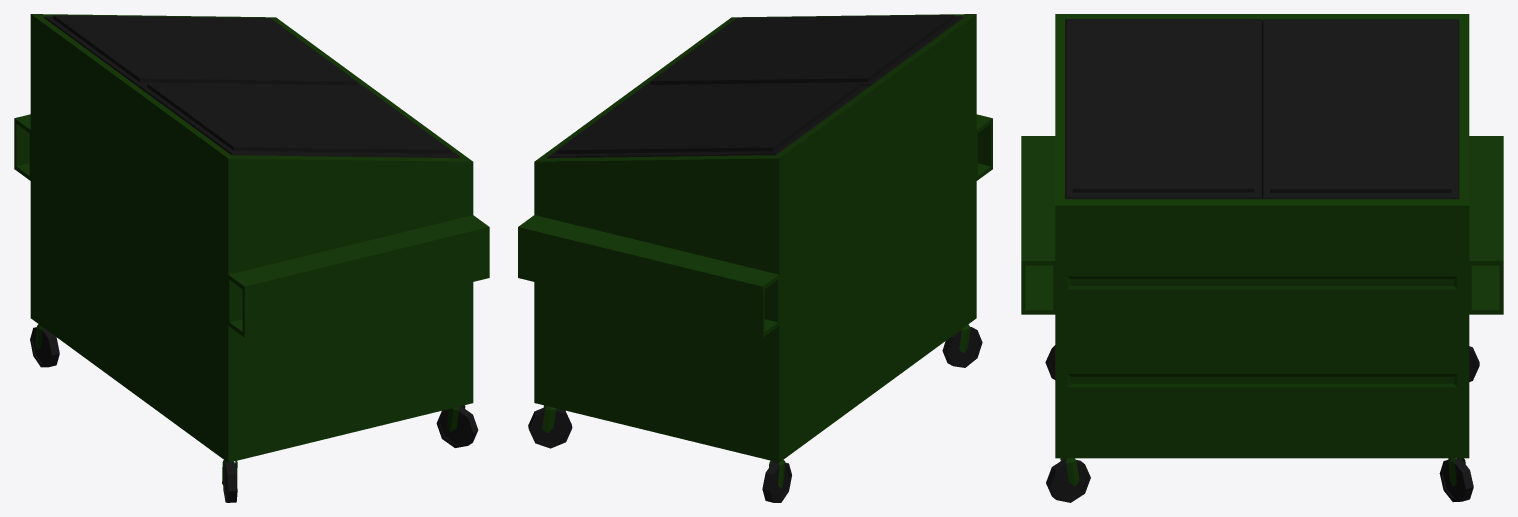
The model's file is big trashbin.FBX.
3 renders of one model, left to right at view 1: azimuth 30°, elevation 25°; view 2: azimuth 150°, elevation 25°; view 3: azimuth 270°, elevation 25°, orthographic. The views are drawn at different scales.
Parts seen in each view (by area): view 1: Big trash bin, door 1, door 2; view 2: Big trash bin, door 2, door 1; view 3: Big trash bin, door 2, door 1.
Boxes of the visible parts, x1=… form: Big trash bin: x1=14, y1=14, x2=489, y2=502; door 1: x1=138, y1=83, x2=460, y2=158; door 2: x1=44, y1=15, x2=363, y2=86; Big trash bin: x1=518, y1=14, x2=992, y2=502; door 2: x1=547, y1=84, x2=869, y2=158; door 1: x1=642, y1=15, x2=963, y2=87; Big trash bin: x1=1021, y1=14, x2=1503, y2=502; door 2: x1=1262, y1=19, x2=1459, y2=199; door 1: x1=1065, y1=19, x2=1262, y2=199.
Size of the model in its own units: 132 by 174 by 206.
